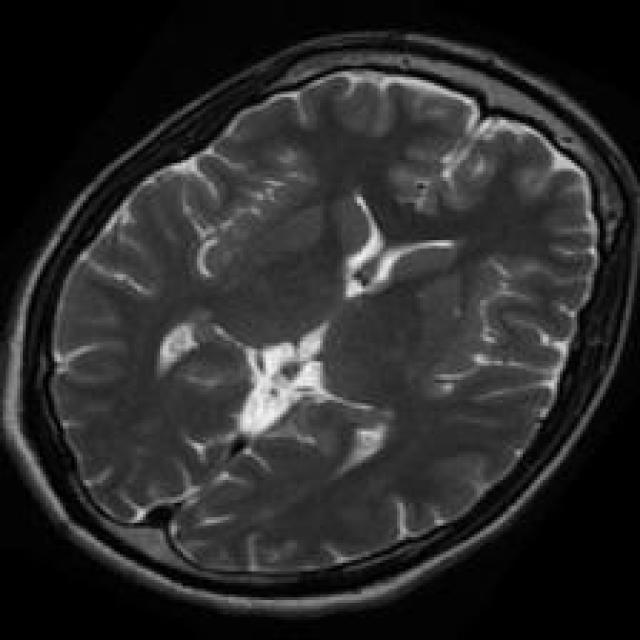no_tumor: (11, 36, 635, 618)
